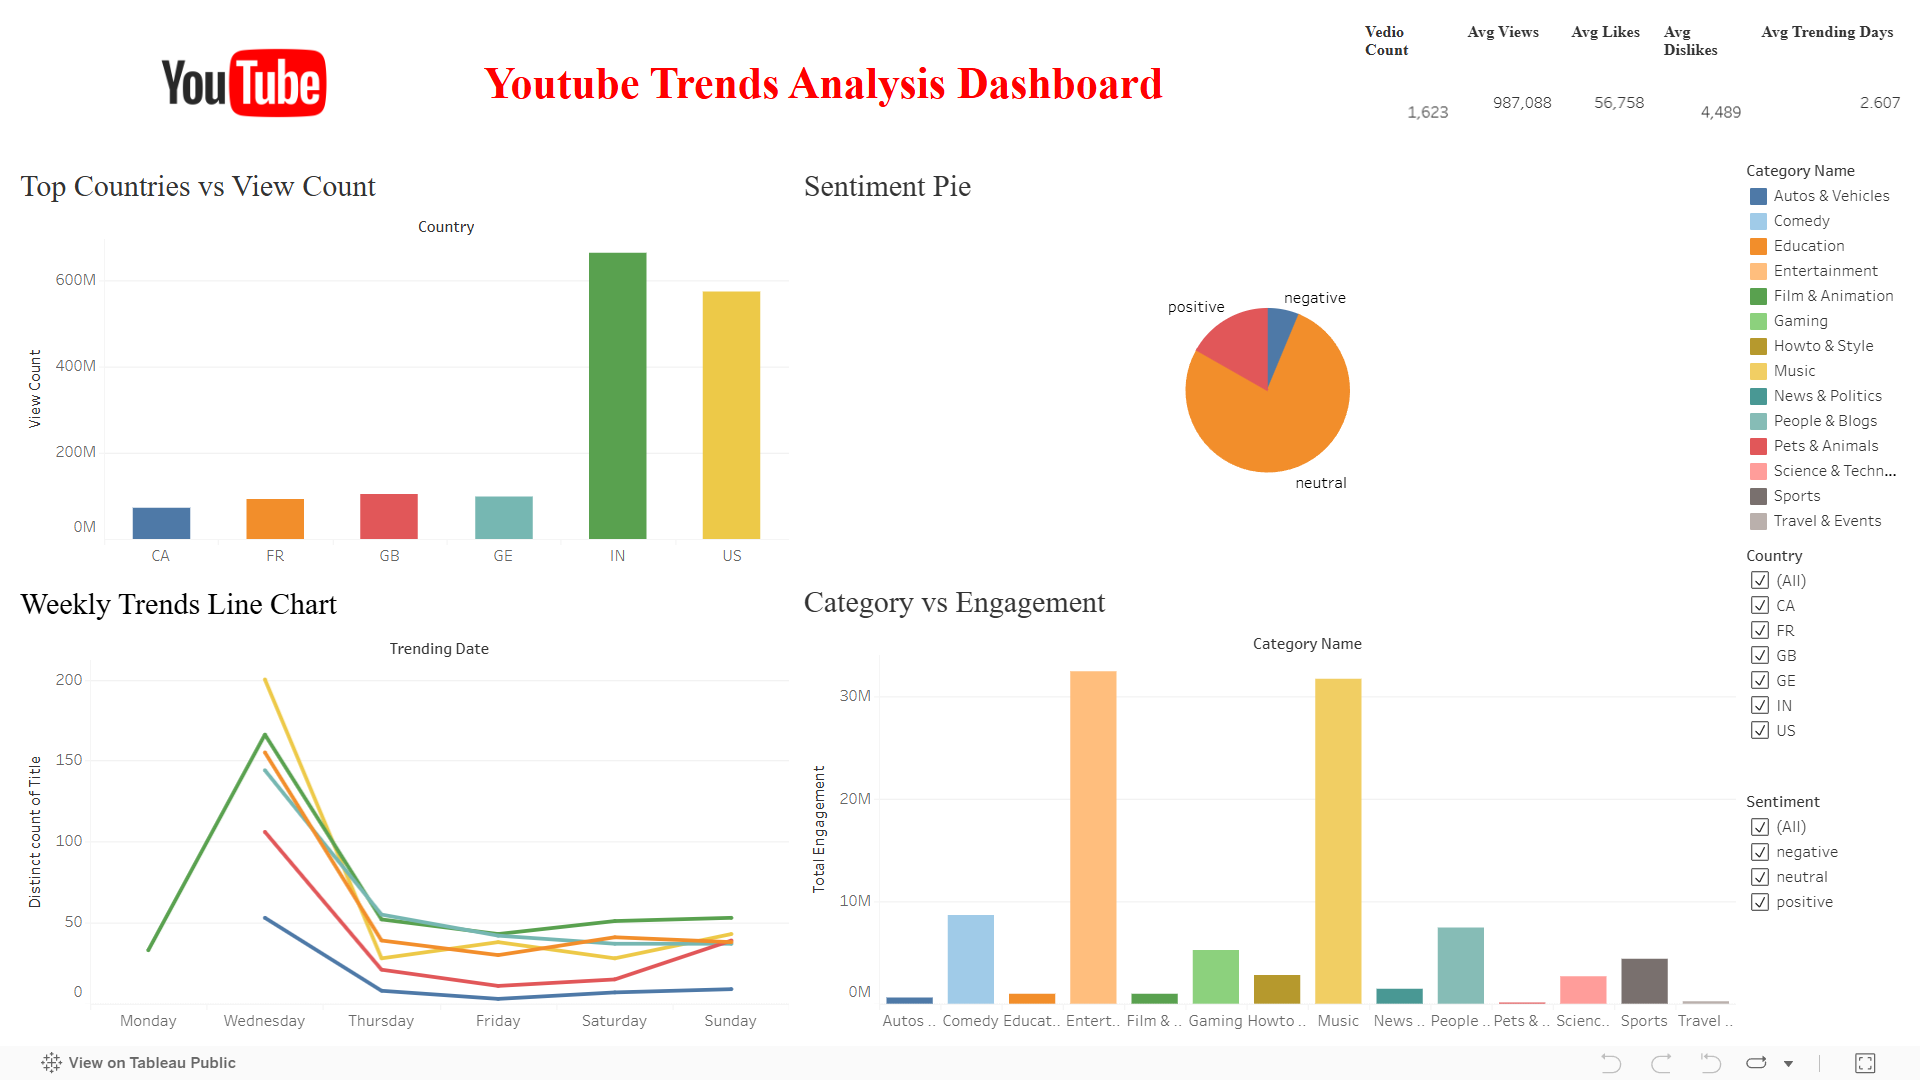

Layout of this report page (visuals, bound fields, positions):
{"tool":"tableau","page":{"name":"Dashboard 1","canvas":[1000,1000],"units":"permille","ordinal":0},"visuals":[{"type":"image","param":"Image/YouTube-logo-video-platform-social-media-transparent-PNG-image.png","box":[4.3,10.7,244.8,137.9]},{"type":"text","box":[249.1,10.7,456.9,137.9]},{"type":"worksheet","title":"Sheet 5","mark":"Automatic","box":[706,10.7,53.5,137.9]},{"type":"worksheet","title":"Sheet 6","mark":"Automatic","box":[759.5,10.7,54.1,137.9]},{"type":"worksheet","title":"Sheet 7","mark":"Automatic","box":[813.6,10.7,48.6,137.9]},{"type":"worksheet","title":"Sheet 8","mark":"Automatic","box":[862.2,10.7,50.4,137.9]},{"type":"worksheet","title":"Sheet 9","mark":"Automatic","box":[912.7,10.7,83,137.9]},{"type":"worksheet","title":"Sheet 1","mark":"Automatic","rows":["view_count"],"cols":["country"],"box":[4.3,148.6,511,396.8]},{"type":"worksheet","title":"Sheet 2","mark":"Pie","box":[515.3,148.6,407.8,396.8]},{"type":"legend","title":"Sheet 4","param":"[federated.0fwmeql0xz1mgo1ai4w560fexovl].[none:category_name:nk]","box":[923.1,148.6,72.6,385.6]},{"type":"filter","title":"Sheet 1","param":"[federated.0fwmeql0xz1mgo1ai4w560fexovl].[none:country:nk]","box":[923.1,534.1,72.6,263.7]},{"type":"worksheet","title":"Sheet 3","mark":"Line","rows":["title"],"cols":["trending_date"],"box":[4.3,545.4,511,443.9]},{"type":"worksheet","title":"Sheet 4","mark":"Bar","rows":["total_engagement"],"cols":["category_name"],"box":[515.3,545.4,407.8,443.9]},{"type":"filter","title":"Sheet 2","param":"[federated.0fwmeql0xz1mgo1ai4w560fexovl].[none:sentiment:nk]","box":[923.1,797.9,72.6,191.4]}]}

Visuals, with their boxes on the dashboard's canvas, which has no fixed pixel size, in thousandths of its width and height (x1, y1, x2, y2). These are canvas units, not pixel positions in the 1920x1080 screenshot, which may show the page scaled, cropped or inside an application window:
image: 4, 11, 249, 149
text: 249, 11, 706, 149
"Sheet 5" worksheet: 706, 11, 760, 149
"Sheet 6" worksheet: 760, 11, 814, 149
"Sheet 7" worksheet: 814, 11, 862, 149
"Sheet 8" worksheet: 862, 11, 913, 149
"Sheet 9" worksheet: 913, 11, 996, 149
"Sheet 1" worksheet: 4, 149, 515, 545
"Sheet 2" worksheet (Pie marks): 515, 149, 923, 545
"Sheet 4" legend: 923, 149, 996, 534
"Sheet 1" filter: 923, 534, 996, 798
"Sheet 3" worksheet (Line marks): 4, 545, 515, 989
"Sheet 4" worksheet (Bar marks): 515, 545, 923, 989
"Sheet 2" filter: 923, 798, 996, 989
